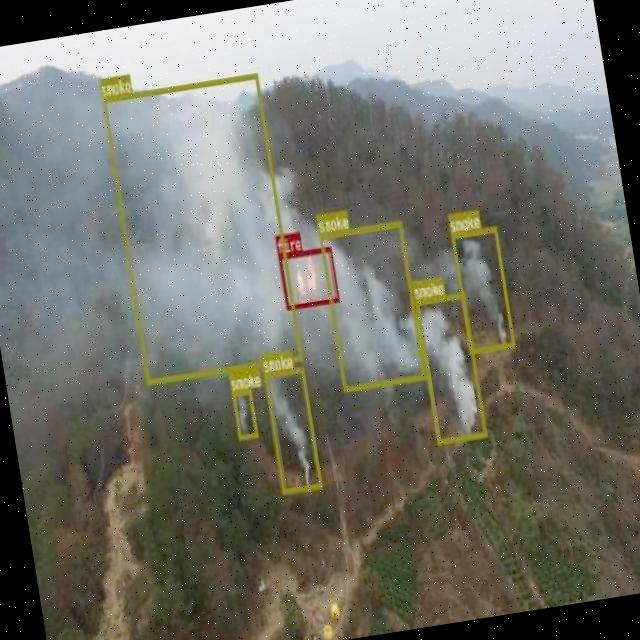fire: (276, 246, 338, 309)
smoke: (100, 73, 303, 384), (320, 220, 426, 392), (414, 292, 487, 444), (450, 225, 516, 354), (263, 366, 322, 493), (232, 388, 258, 440)
